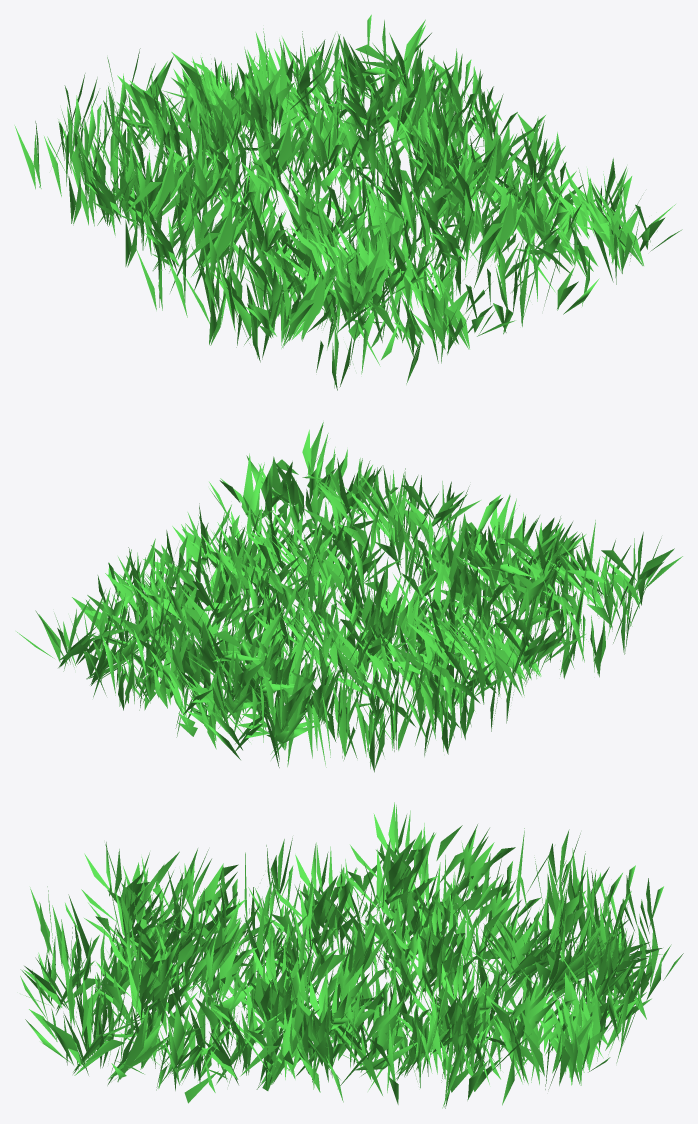
File: Grass.fbx
The picture shows the model from 3 angles, top to bottom: view 1: azimuth 30°, elevation 25°; view 2: azimuth 150°, elevation 25°; view 3: azimuth 270°, elevation 25°; orthographic projection. The views are drawn at different scales.
Parts seen in each view (by area): view 1: Cube.002; view 2: Cube.002; view 3: Cube.002.
Part boxes in pixels (x1,y1,x2,y2): Cube.002: (14, 14, 682, 390); Cube.002: (16, 422, 682, 772); Cube.002: (20, 802, 683, 1108).
Size of the model in its own units: 146 by 42.94 by 178.
